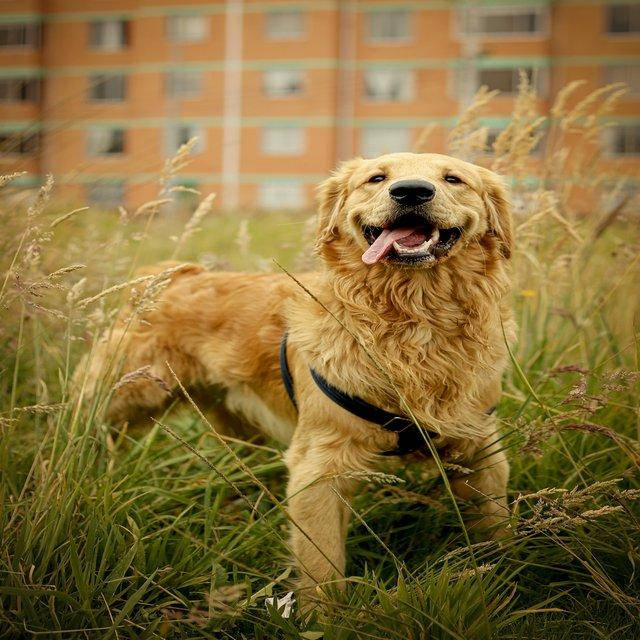retriever: (63, 149, 519, 630)
